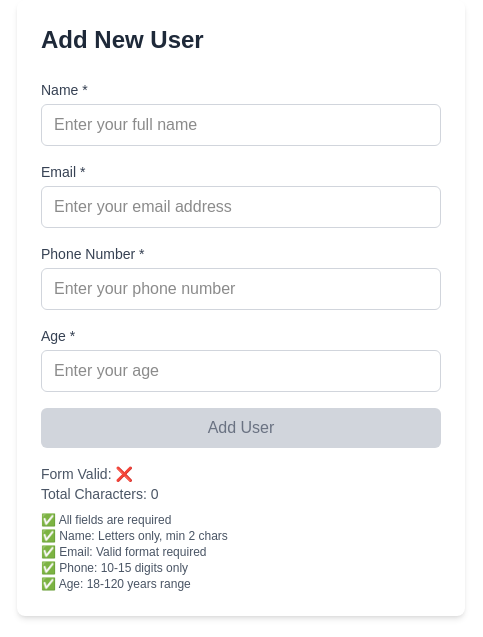
it: UserForm Component - Working Tests Only › accepts valid form data and enables submission
Expected: the button "Add User" is enabled, [41,408,441,448]
// Fill all fields with valid data
In the field labelled "Name *": (241, 125) [41,104,441,146], type "Jane Smith"
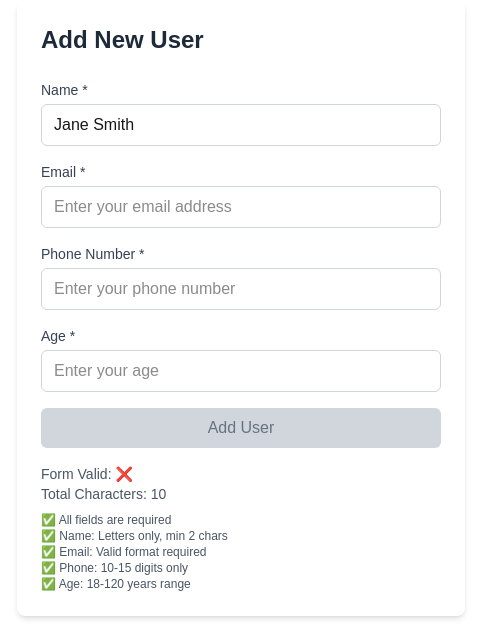
In the field labelled "Email *": (241, 207) [41,186,441,228], type "jane.smith@example.com"
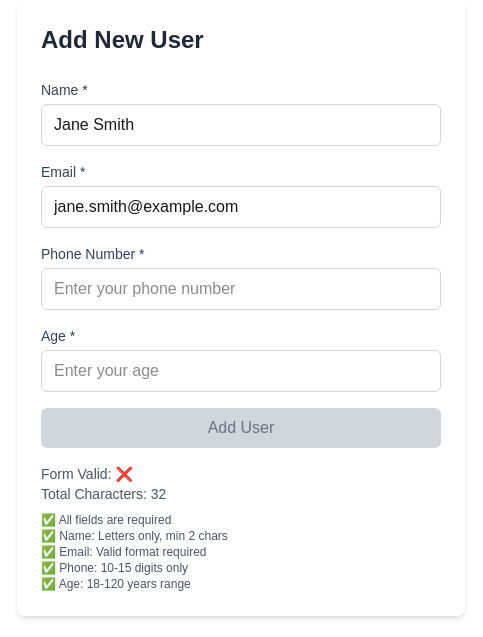
In the field labelled "Phone Number *": (241, 289) [41,268,441,310], type "9876543210"
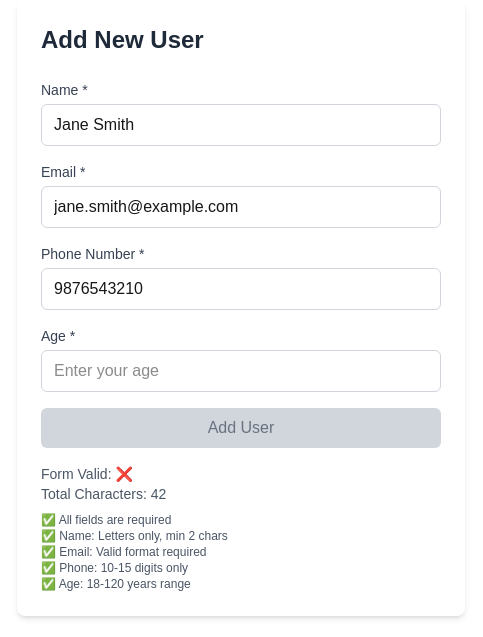
In the number field labelled "Age *": (241, 371) [41,350,441,392], type "30"
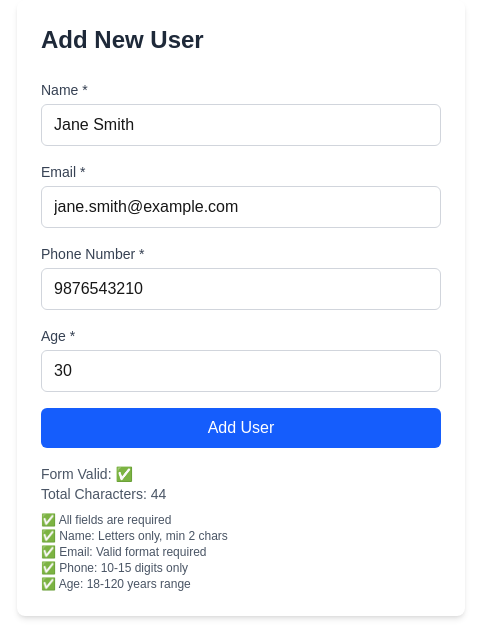
Expected: the button "Add User" is enabled, [41,408,441,448]
Expected: the text "Form Valid: ✅" is shown, [41,466,133,482]
